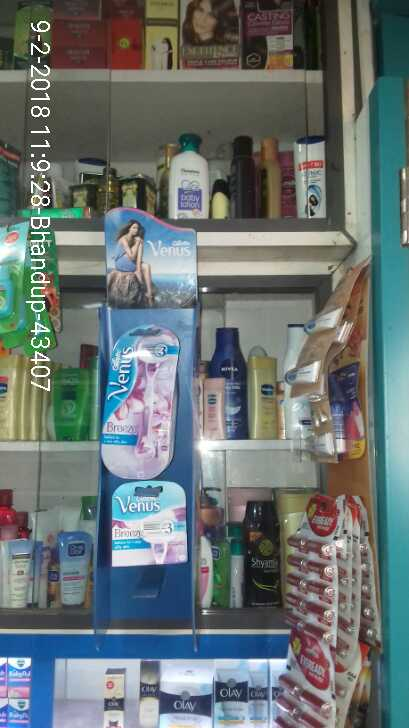beauty: (101, 330, 174, 471), (109, 478, 193, 565)
